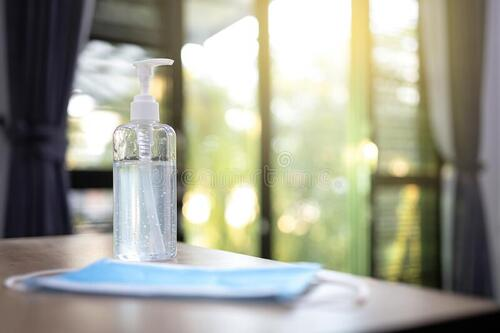sanitizer: (111, 55, 184, 264)
